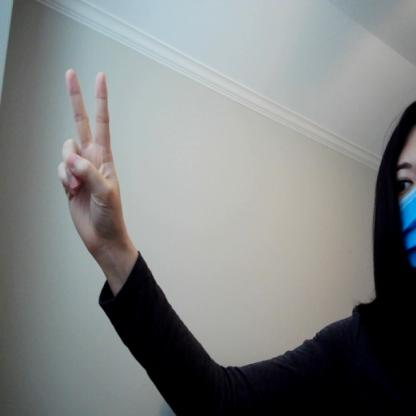two: (46, 62, 146, 271)
